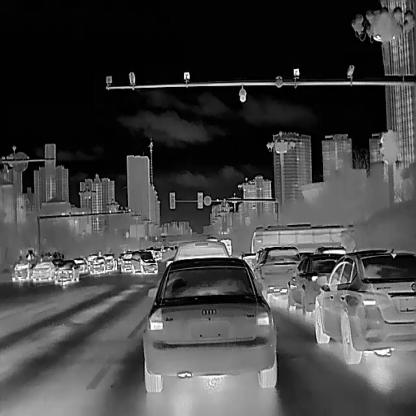bus: (248, 222, 356, 252)
car: (143, 256, 276, 392), (314, 248, 415, 363), (286, 252, 356, 315), (250, 245, 302, 296), (53, 258, 80, 284), (30, 259, 57, 283), (130, 250, 157, 272), (10, 262, 32, 281), (90, 256, 106, 274), (119, 252, 132, 272), (103, 254, 117, 272), (73, 257, 88, 273)
